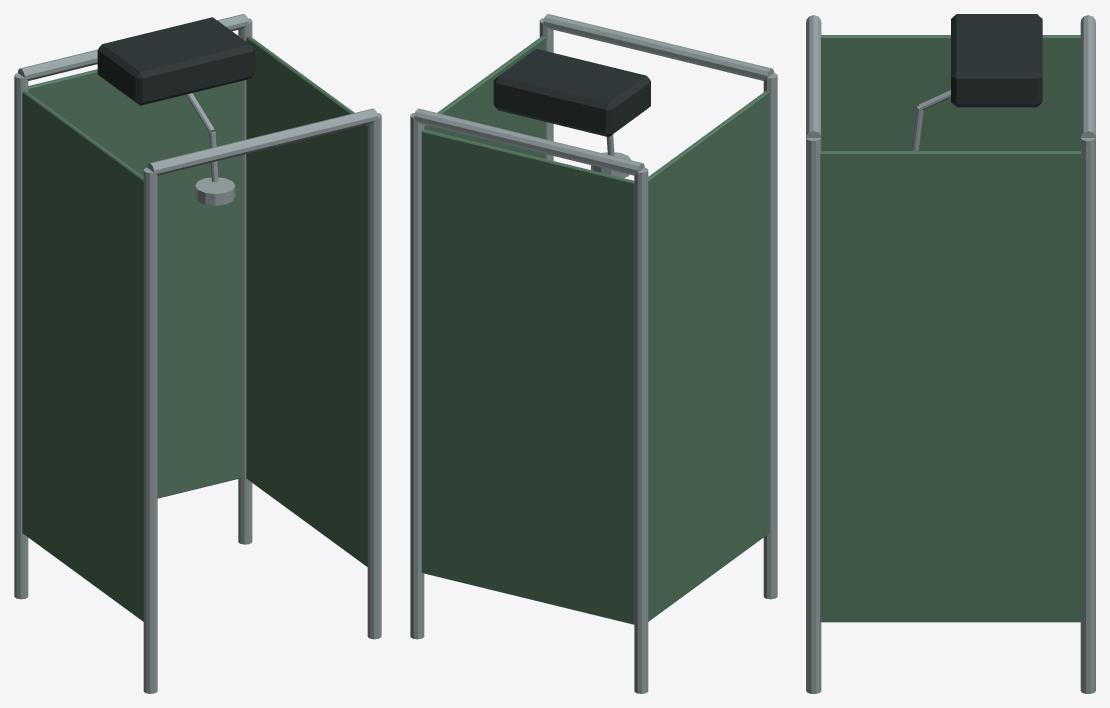
File: Camp_Shower.glb
3 renders of one model, left to right at view 1: azimuth 30°, elevation 25°; view 2: azimuth 150°, elevation 25°; view 3: azimuth 270°, elevation 25°, orthographic. The views are drawn at different scales.
Visible parts, largest first — view 1: Camp_Shower; view 2: Camp_Shower; view 3: Camp_Shower.
Part boxes in pixels (x1,y1,x2,y2): Camp_Shower: (14,14,381,693); Camp_Shower: (410,14,777,693); Camp_Shower: (806,14,1095,693).
Size of the model in its own units: 0.9476 by 2.13 by 0.95.
